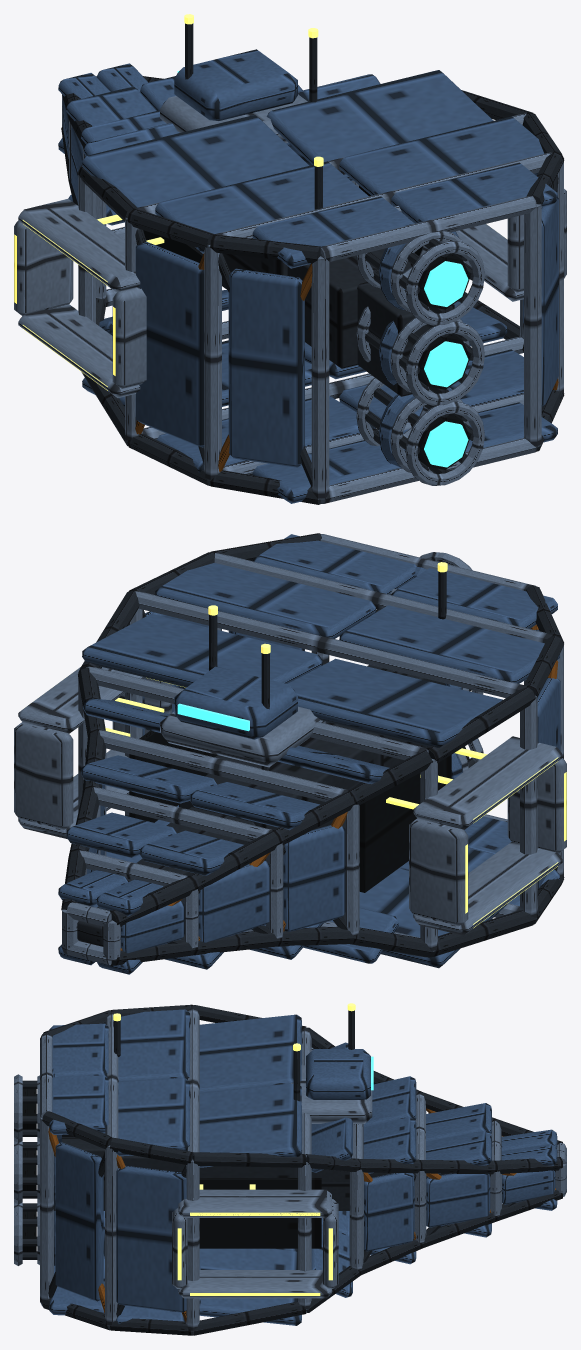
File: colossal-etapa-3.glb
3 views of the same model, one above another, from view 1: azimuth 30°, elevation 25°; view 2: azimuth 150°, elevation 25°; view 3: azimuth 270°, elevation 25° (orthographic). The views are drawn at different scales.
Visible parts, largest first — view 1: Placa chanfrada da fuselagem, Costela transversal, Longarina longitudinal, Núcleo de emissão, Parede interna da baia, Baliza longitudinal do hangar, Treliça diagonal; view 2: Placa chanfrada da fuselagem, Costela transversal, Longarina longitudinal, Parede interna da baia, Baliza longitudinal do hangar, Núcleo de emissão; view 3: Placa chanfrada da fuselagem, Costela transversal, Longarina longitudinal, Parede interna da baia, Baliza longitudinal do hangar, Treliça diagonal.
Part boxes in pixels (left/top/right/bottom): Placa chanfrada da fuselagem: left=58, top=49, right=558, bottom=503; Costela transversal: left=14, top=76, right=566, bottom=503; Longarina longitudinal: left=61, top=23, right=564, bottom=504; Núcleo de emissão: left=177, top=71, right=468, bottom=467; Parede interna da baia: left=143, top=185, right=470, bottom=469; Baliza longitudinal do hangar: left=14, top=14, right=323, bottom=390; Treliça diagonal: left=135, top=253, right=558, bottom=471; Placa chanfrada da fuselagem: left=58, top=534, right=560, bottom=974; Costela transversal: left=14, top=534, right=566, bottom=964; Longarina longitudinal: left=61, top=533, right=564, bottom=965; Parede interna da baia: left=129, top=730, right=469, bottom=892; Baliza longitudinal do hangar: left=105, top=562, right=566, bottom=928; Núcleo de emissão: left=177, top=703, right=249, bottom=731; Placa chanfrada da fuselagem: left=49, top=1009, right=557, bottom=1325; Costela transversal: left=14, top=1006, right=566, bottom=1334; Longarina longitudinal: left=22, top=1004, right=562, bottom=1335; Parede interna da baia: left=22, top=1089, right=321, bottom=1252; Baliza longitudinal do hangar: left=113, top=1003, right=355, bottom=1295; Treliça diagonal: left=48, top=1108, right=555, bottom=1322.
Size of the model in its own units: 153 by 106 by 212.
7 materials, 5 textured.
